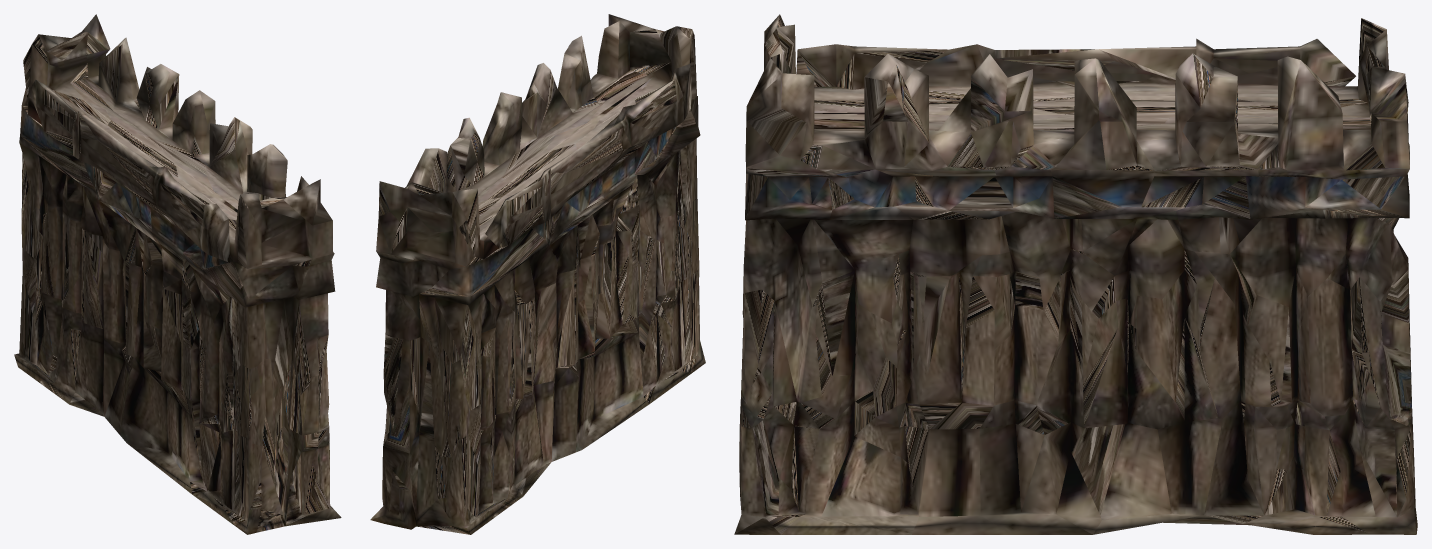
File: castle_wall_wood.glb
The picture shows the model from 3 angles, left to right: view 1: azimuth 30°, elevation 25°; view 2: azimuth 150°, elevation 25°; view 3: azimuth 270°, elevation 25°; orthographic projection. The views are drawn at different scales.
Parts seen in each view (by area): view 1: tripo_node_e00a12d8-df66-44d4-93df-fbb81e9339c7; view 2: tripo_node_e00a12d8-df66-44d4-93df-fbb81e9339c7; view 3: tripo_node_e00a12d8-df66-44d4-93df-fbb81e9339c7.
Part boxes in pixels (box(x1,y1,x2,y2)): tripo_node_e00a12d8-df66-44d4-93df-fbb81e9339c7: box(14, 14, 341, 534); tripo_node_e00a12d8-df66-44d4-93df-fbb81e9339c7: box(370, 14, 705, 534); tripo_node_e00a12d8-df66-44d4-93df-fbb81e9339c7: box(734, 14, 1417, 534).
Bounding box in the file's own units: 0.2242 × 0.7417 × 0.9769.
1 material, 1 textured.
